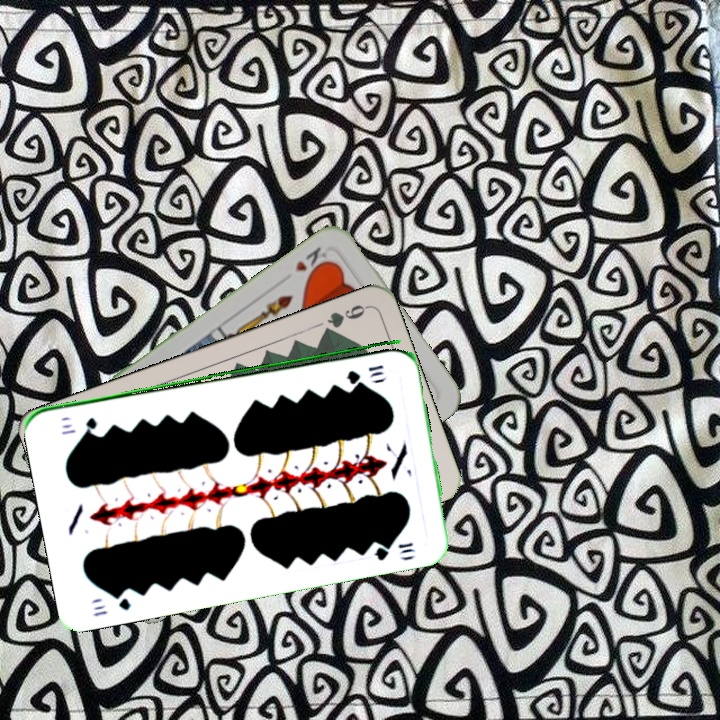G10: (88, 587, 134, 620), (343, 361, 386, 383)
G9: (318, 300, 371, 339)
HK: (290, 242, 332, 280)
